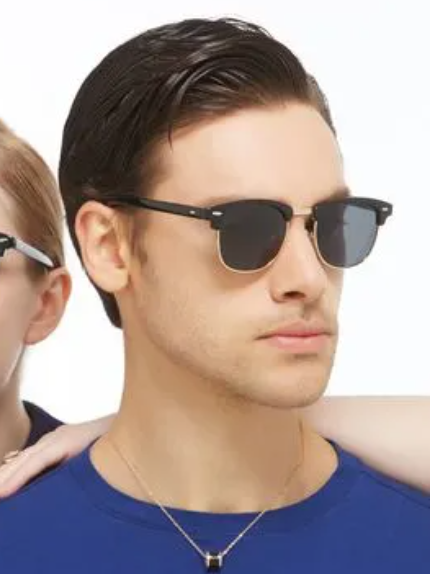glass: (68, 167, 405, 276)
mouth: (239, 313, 350, 353)
